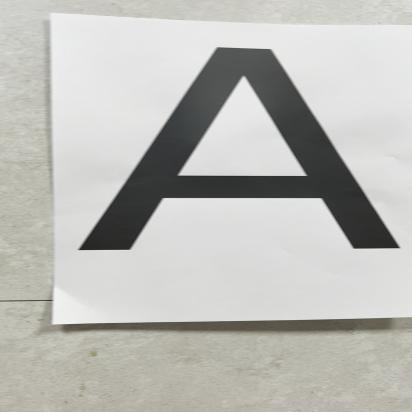seat: (82, 31, 412, 287)
